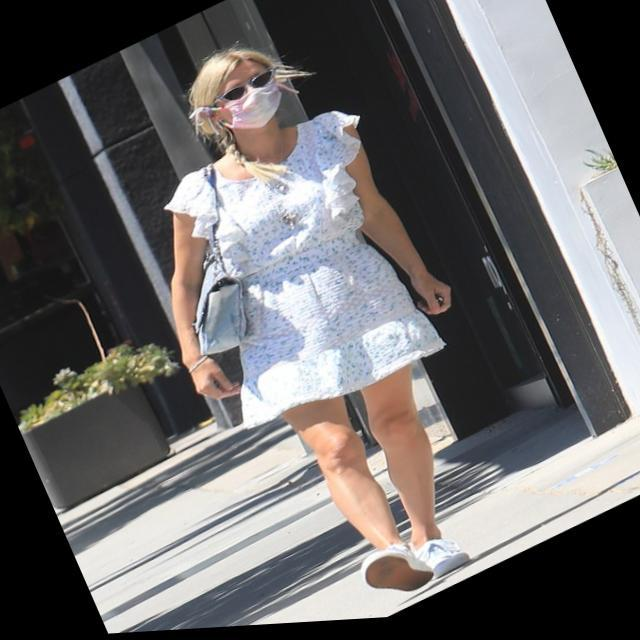Nonhelmet: (186, 22, 304, 142)
